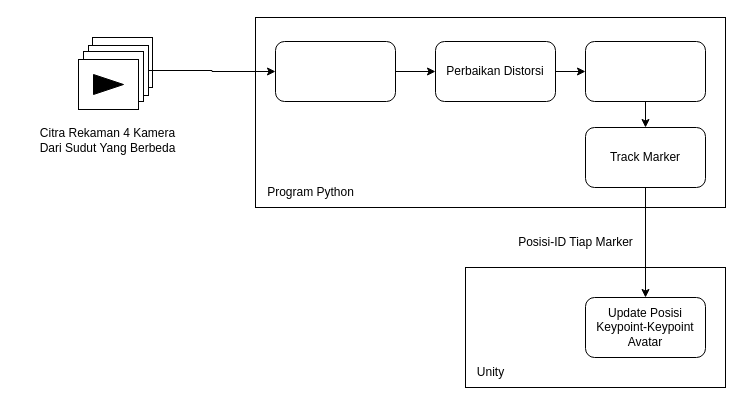
Some shapes in this 743 by 405 pixel diagram are drawn without their labels. The shapes that lost their labels are listed below. From the top down, each one's centre as x and y in pixels, then its label:
pixel 335 71: Kalibrasi Kamera
pixel 645 71: Deteksi Marker
